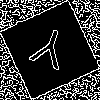Y: (25, 25, 72, 79)
